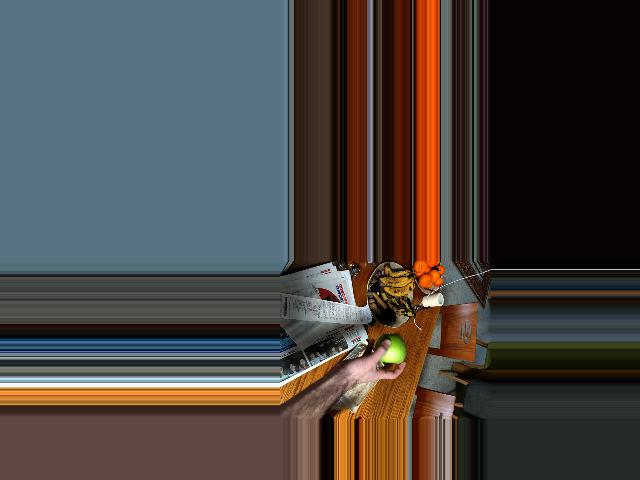apple: (372, 333, 406, 362)
